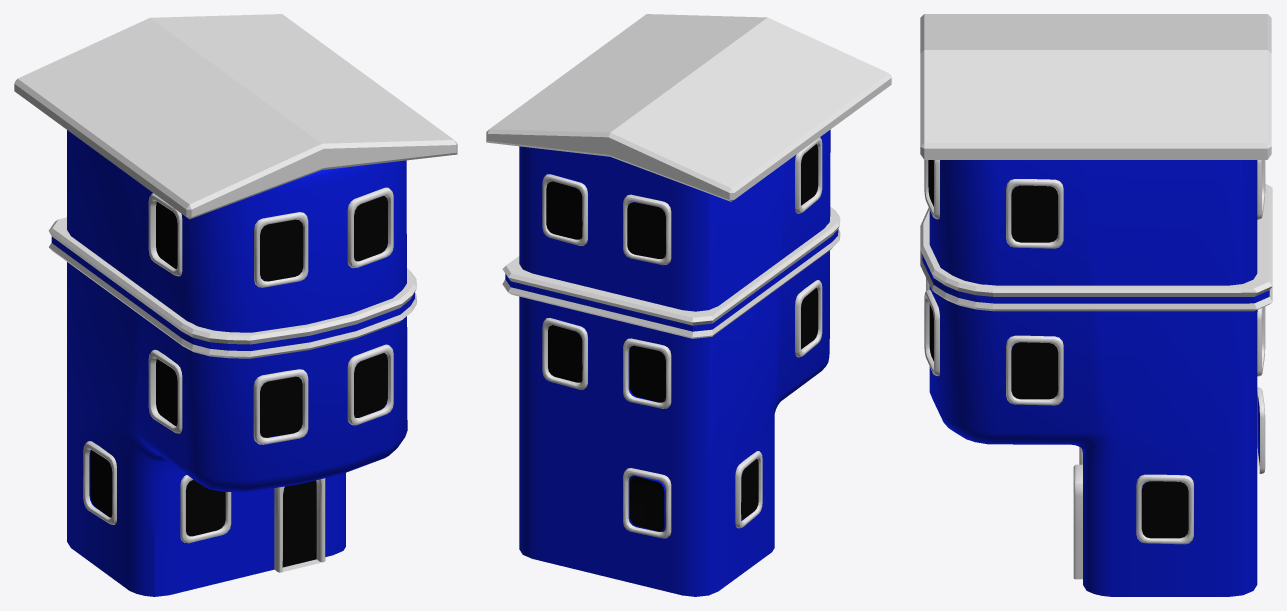
File: BuyukBina.fbx
3 renders of one model, left to right at view 1: azimuth 30°, elevation 25°; view 2: azimuth 150°, elevation 25°; view 3: azimuth 270°, elevation 25°, orthographic. The views are drawn at different scales.
Parts seen in each view (by area): view 1: Cube.003; view 2: Cube.003; view 3: Cube.003.
Part boxes in pixels (bbox=[...]): Cube.003: bbox=[14, 14, 457, 596]; Cube.003: bbox=[486, 14, 891, 596]; Cube.003: bbox=[920, 14, 1272, 596].
Size of the model in its own units: 91.87 by 159 by 104.
